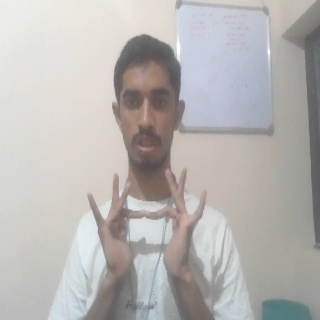Face: (107, 35, 188, 168)
Internet: (84, 167, 208, 280)
